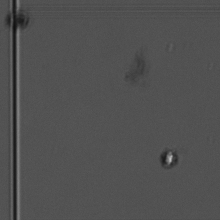Dead Cell: (3, 7, 30, 31)
Living Cell: (158, 144, 180, 169)
